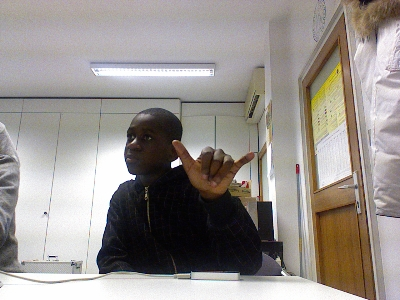六六六: (171, 138, 256, 197)
